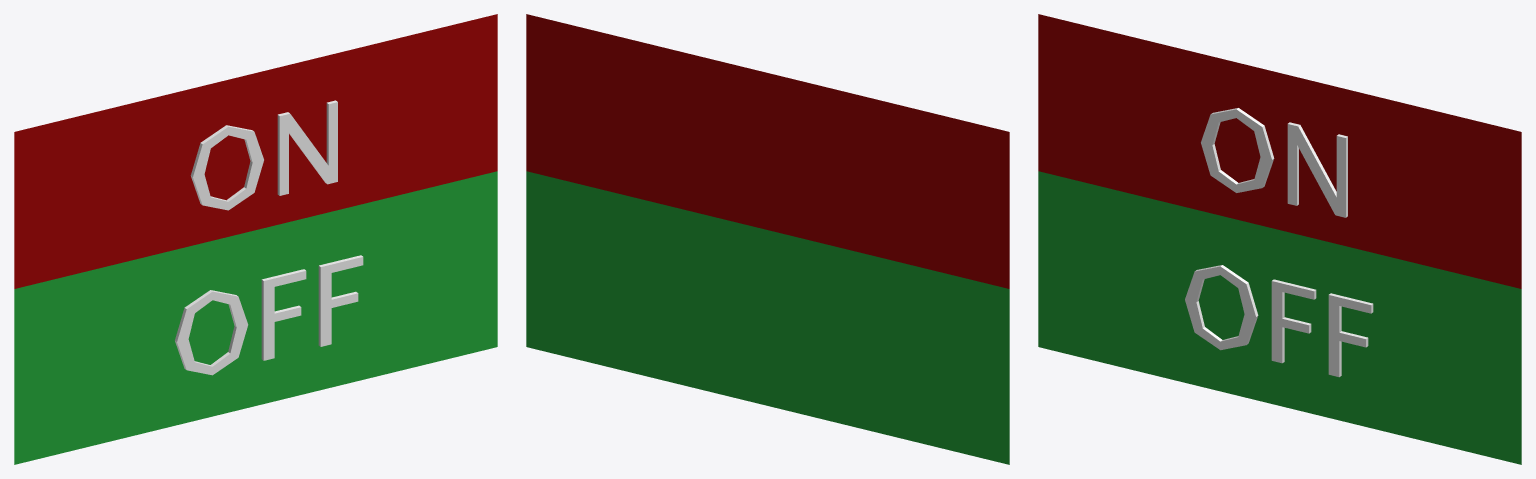
The model's file is VCB_BUT3.fbx.
The picture shows the model from 3 angles, left to right: view 1: azimuth 30°, elevation 25°; view 2: azimuth 150°, elevation 25°; view 3: azimuth 330°, elevation 25°; orthographic projection.
Parts seen in each view (by area): view 1: VCB_BUT3; view 2: VCB_BUT3; view 3: VCB_BUT3.
Part boxes in pixels (x1=…): VCB_BUT3: x1=14, y1=14, x2=497, y2=464; VCB_BUT3: x1=526, y1=14, x2=1009, y2=464; VCB_BUT3: x1=1038, y1=14, x2=1521, y2=464.
Bounding box in the file's own units: 0.0303 × 0.02 × 0.000878.
Materials: 2 (1 with a texture image).
